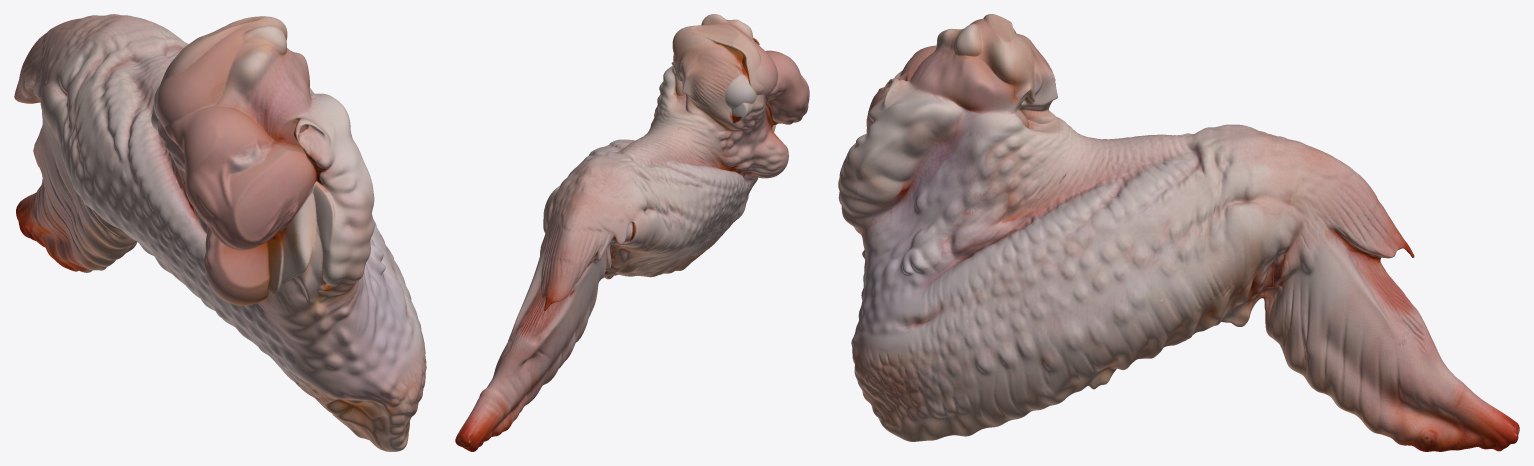
Rendered from chicken_wing.glb.
The picture shows the model from 3 angles, left to right: view 1: azimuth 30°, elevation 25°; view 2: azimuth 150°, elevation 25°; view 3: azimuth 270°, elevation 25°; orthographic projection. The views are drawn at different scales.
Visible parts, largest first — view 1: tripo_node_920975c5-548d-42ea-a56e-f499ce82f545; view 2: tripo_node_920975c5-548d-42ea-a56e-f499ce82f545; view 3: tripo_node_920975c5-548d-42ea-a56e-f499ce82f545.
Part boxes in pixels (x1,y1,x2,y2): tripo_node_920975c5-548d-42ea-a56e-f499ce82f545: (14, 14, 426, 451); tripo_node_920975c5-548d-42ea-a56e-f499ce82f545: (455, 14, 809, 451); tripo_node_920975c5-548d-42ea-a56e-f499ce82f545: (838, 14, 1519, 451).
Size of the model in its own units: 0.3815 by 0.6425 by 0.9999.
1 material, 1 textured.
